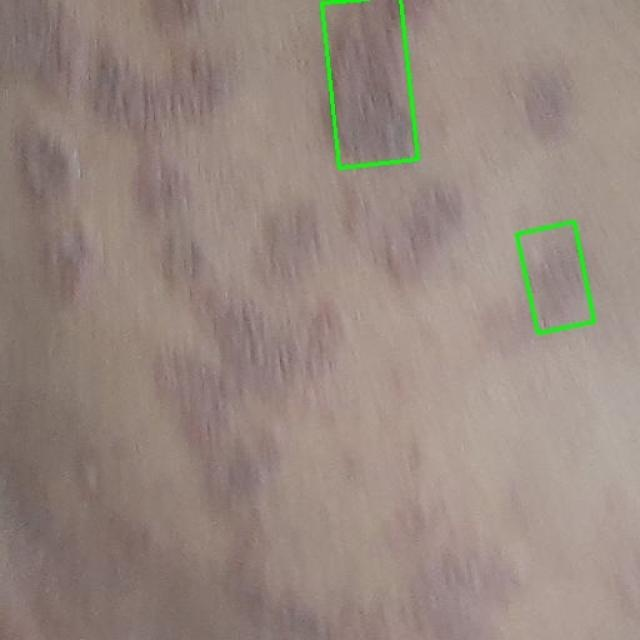Tinea Corporis: (322, 0, 418, 168), (517, 222, 595, 333)
